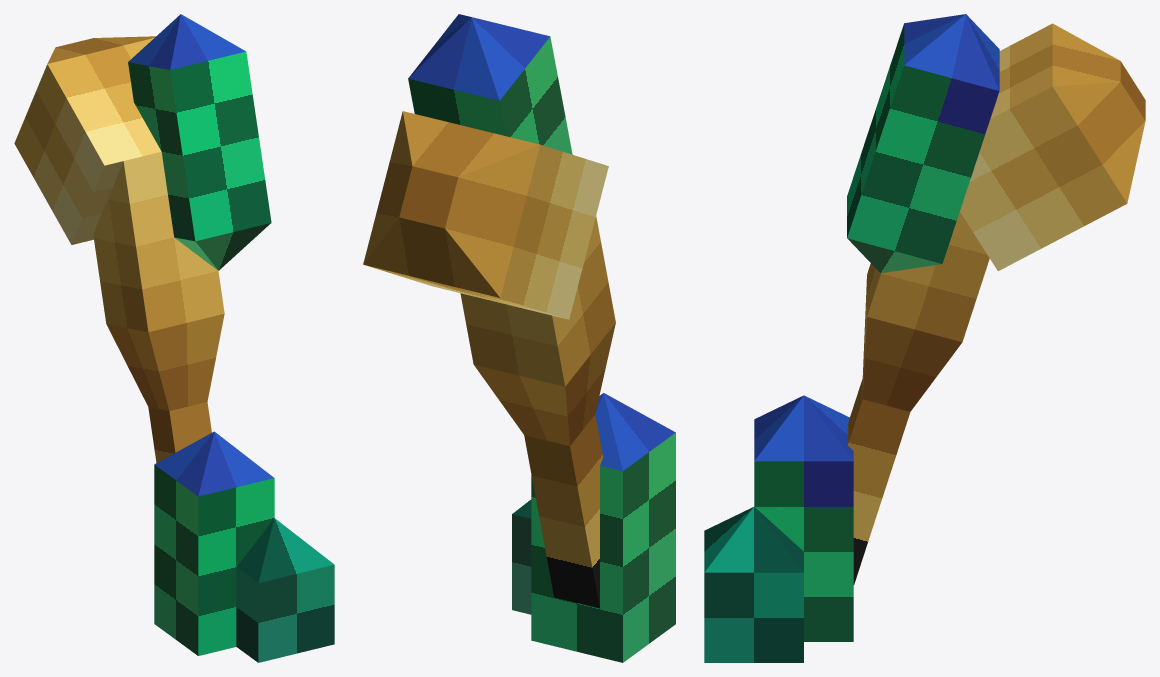
Rendered from leg_ender_back_r.obj.
3 views of the same model, side by side, from view 1: azimuth 30°, elevation 25°; view 2: azimuth 150°, elevation 25°; view 3: azimuth 270°, elevation 25° (orthographic). The views are drawn at different scales.
Parts seen in each view (by area): view 1: ELEG_RIGHTBACK_DECO_DIAMOND_Cube.309, LEG_ENDER_RIGHTBACK_Cube.042; view 2: LEG_ENDER_RIGHTBACK_Cube.042, ELEG_RIGHTBACK_DECO_DIAMOND_Cube.309; view 3: ELEG_RIGHTBACK_DECO_DIAMOND_Cube.309, LEG_ENDER_RIGHTBACK_Cube.042.
Boxes of the visible parts, x1,y1,x2,y2 form: ELEG_RIGHTBACK_DECO_DIAMOND_Cube.309: (128,14,334,662); LEG_ENDER_RIGHTBACK_Cube.042: (14,36,224,462); LEG_ENDER_RIGHTBACK_Cube.042: (363,111,615,608); ELEG_RIGHTBACK_DECO_DIAMOND_Cube.309: (408,14,675,662); ELEG_RIGHTBACK_DECO_DIAMOND_Cube.309: (704,14,999,662); LEG_ENDER_RIGHTBACK_Cube.042: (847,23,1145,584).
Size of the model in its own units: 0.2188 by 0.8698 by 0.5538.
